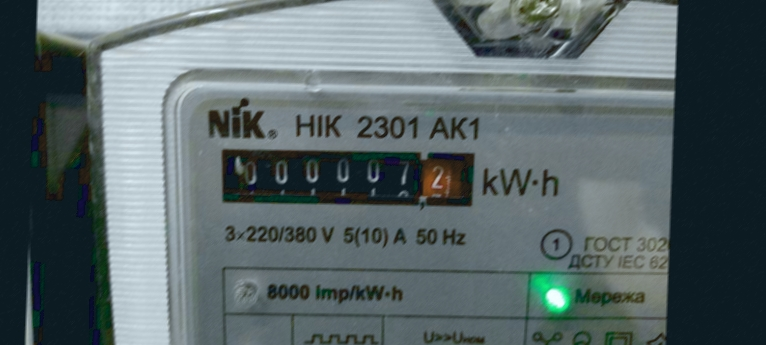0: (302, 156, 321, 184), (272, 157, 290, 186), (241, 158, 259, 186), (364, 156, 381, 184), (334, 156, 350, 183)
2: (429, 162, 446, 192)
7: (394, 158, 411, 187)
screen: (211, 135, 487, 217)
